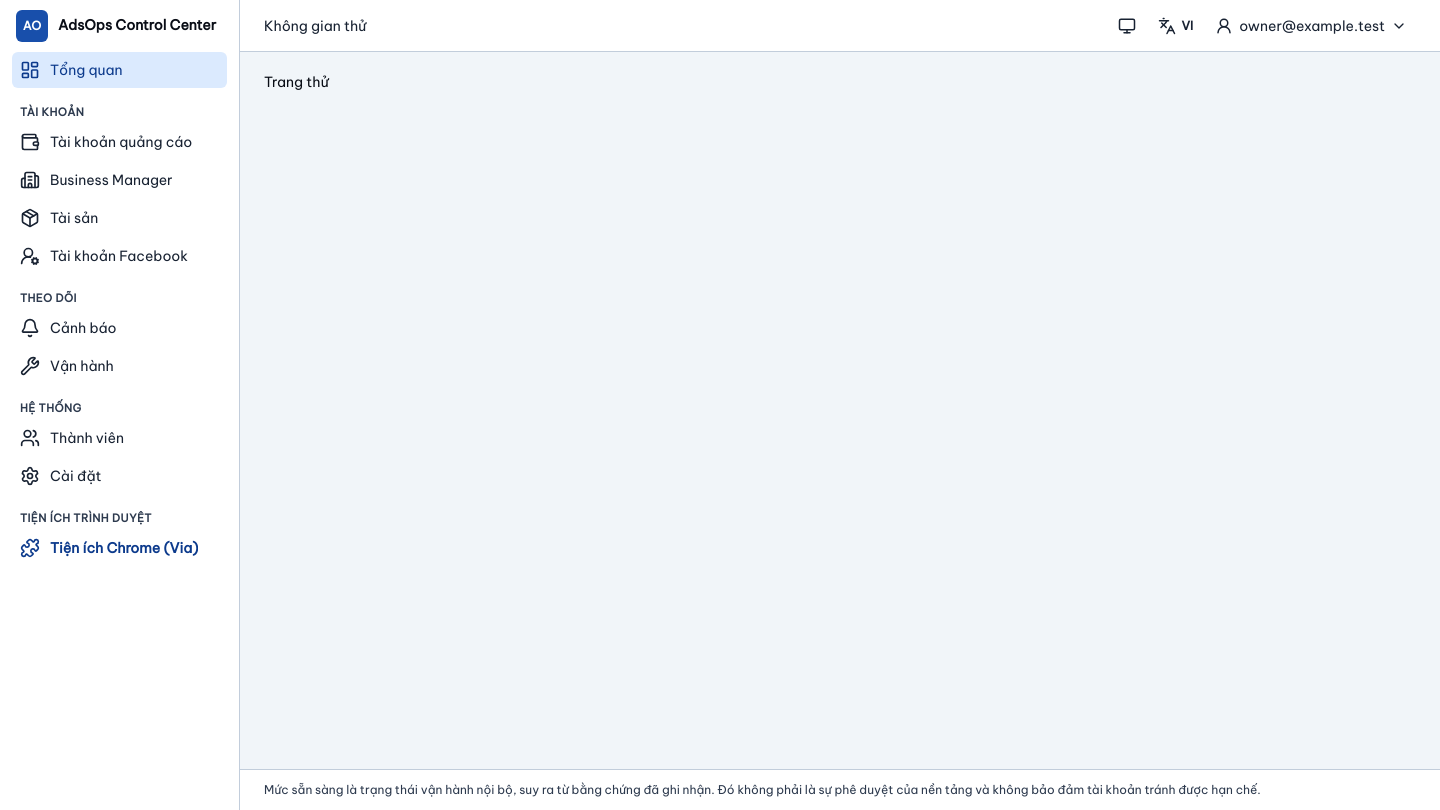
Scenario: AppShell navigation › switches the whole shell to English and remembers it
Click the button with aria-label "Ngôn ngữ" at (1175, 26), box left=1148, top=8, right=1202, bottom=44
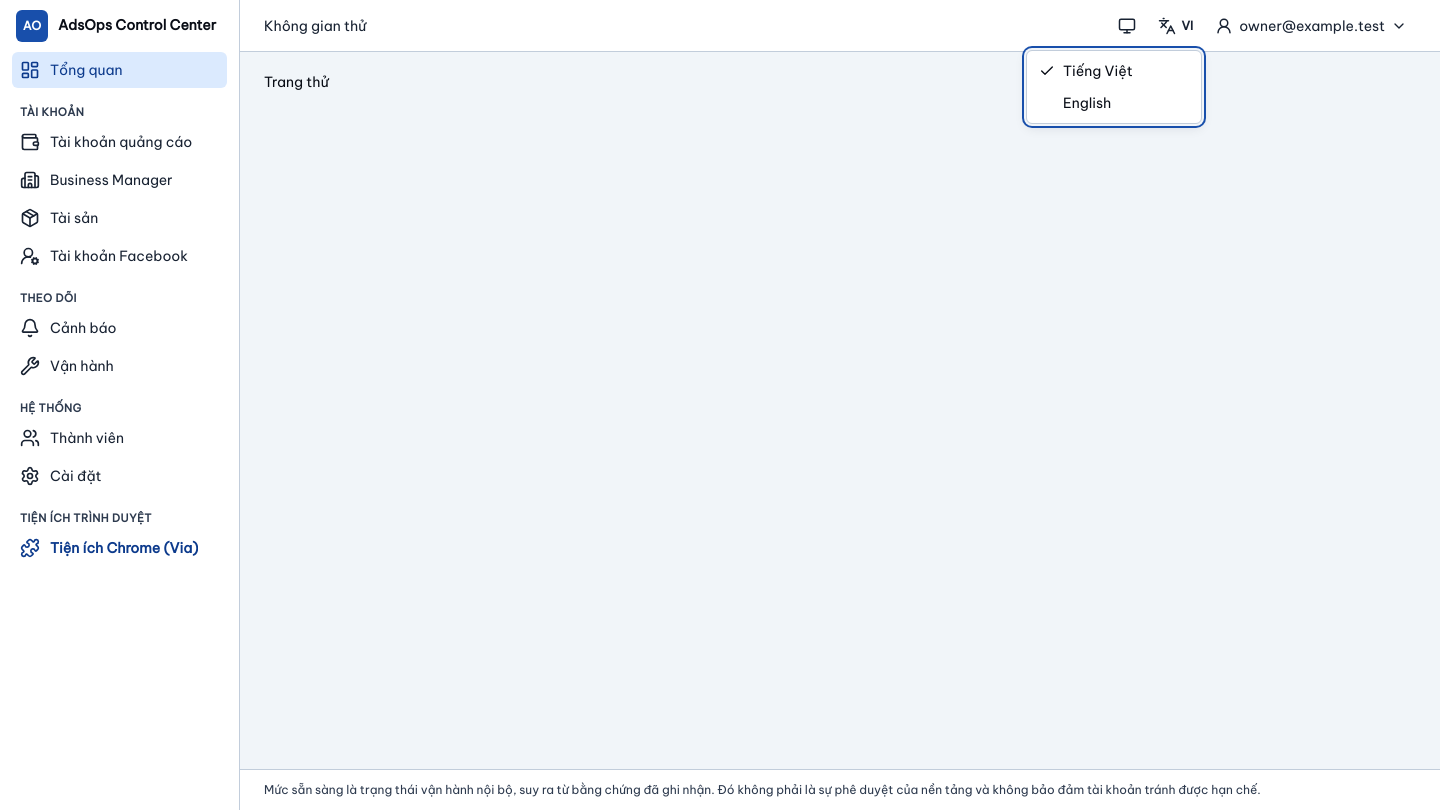
Click the menu item "English" at (1087, 103), box left=1063, top=94, right=1111, bottom=112
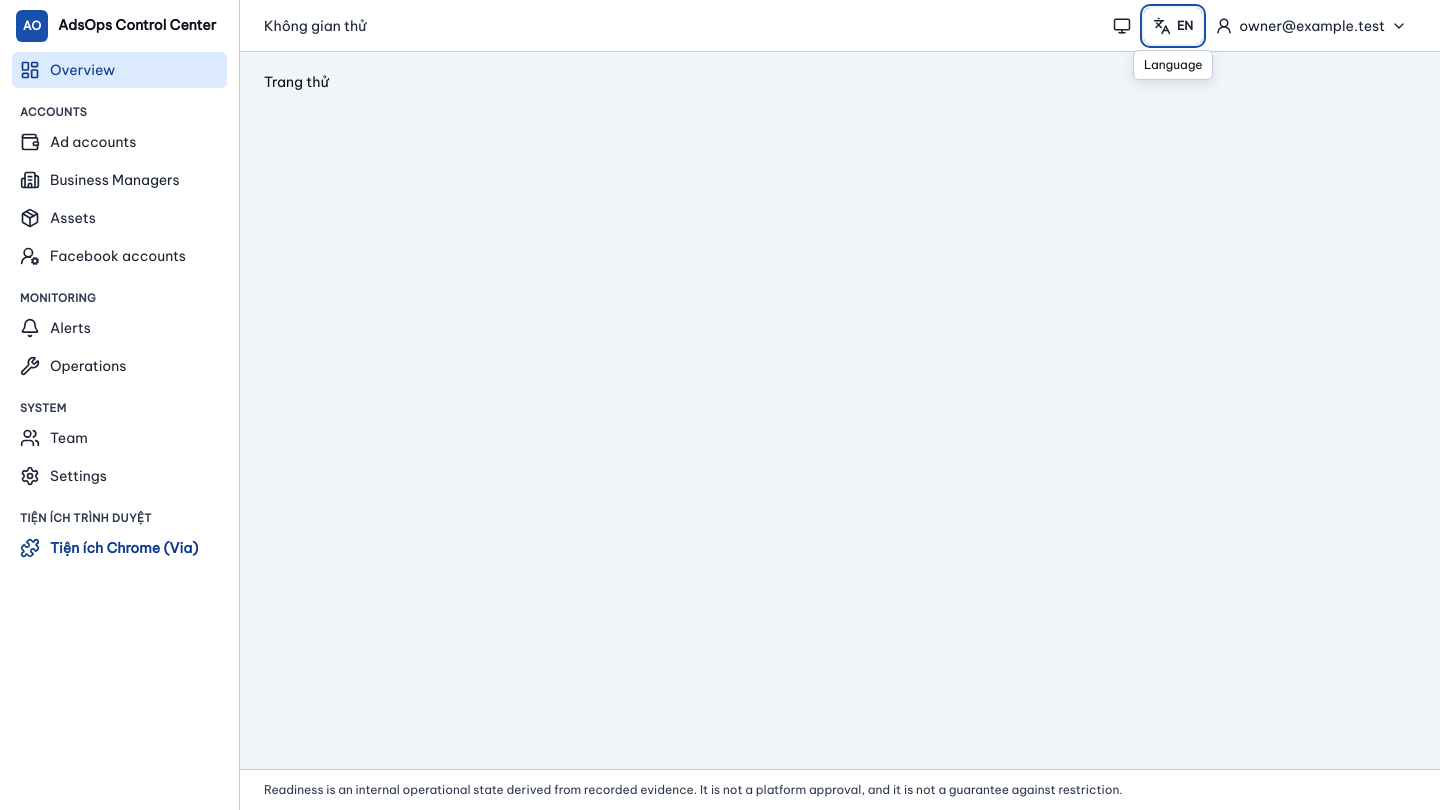
Expected: the navigation bar named "Main navigation" is shown, left=0, top=52, right=239, bottom=582
Expected: the link "Ad accounts" is shown, left=20, top=132, right=136, bottom=152
